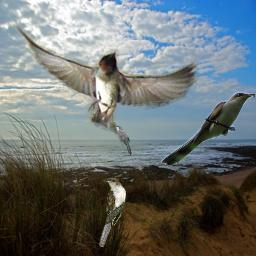Cuckoo: (161, 91, 255, 165), (99, 178, 126, 247), (113, 125, 132, 155)
Swallow: (13, 23, 201, 136)
